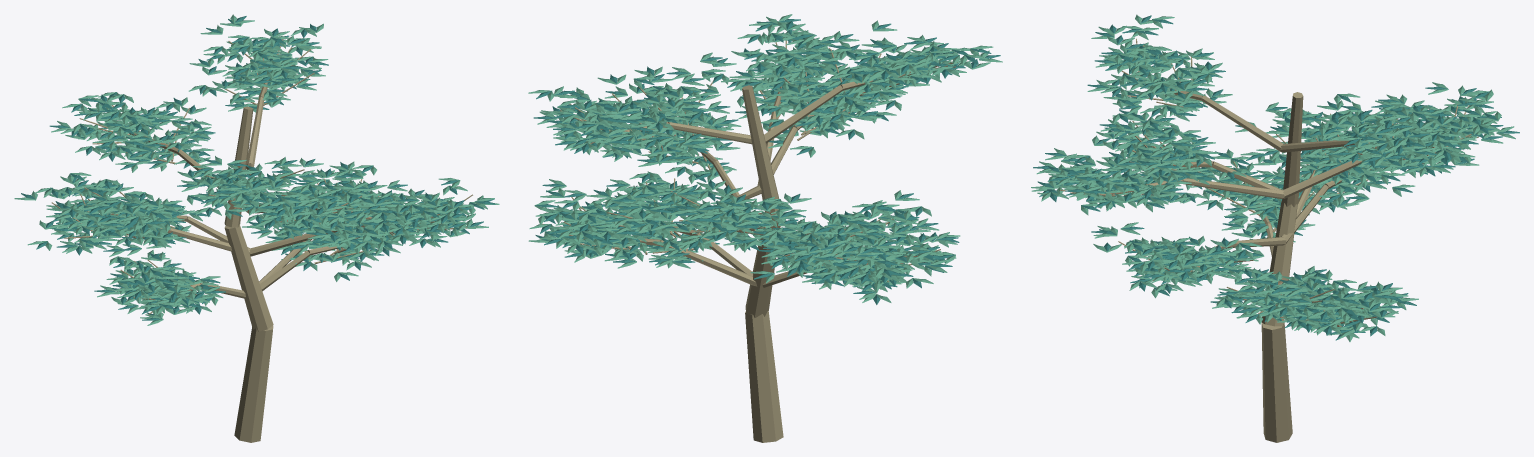
Rendered from chinese-pine.glb.
The picture shows the model from 3 angles, left to right: view 1: azimuth 30°, elevation 25°; view 2: azimuth 150°, elevation 25°; view 3: azimuth 270°, elevation 25°; orthographic projection. The views are drawn at different scales.
Parts seen in each view (by area): view 1: Sunwen_chinese-pine; view 2: Sunwen_chinese-pine; view 3: Sunwen_chinese-pine.
Boxes of the visible parts, left/top/right/bottom form: Sunwen_chinese-pine: left=14, top=14, right=499, bottom=442; Sunwen_chinese-pine: left=528, top=14, right=1002, bottom=442; Sunwen_chinese-pine: left=1031, top=14, right=1519, bottom=442.
Bounding box in the file's own units: 5.03 × 4.13 × 5.1.
